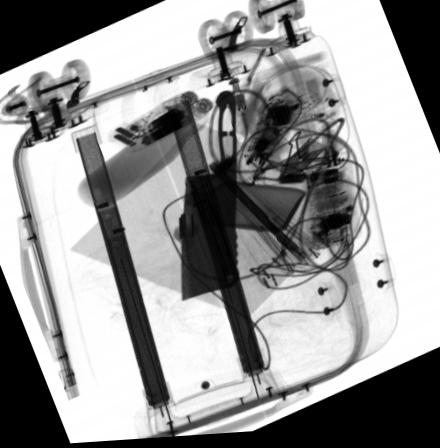Knife: (180, 91, 239, 302)
